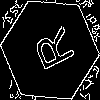R: (25, 25, 76, 77)
